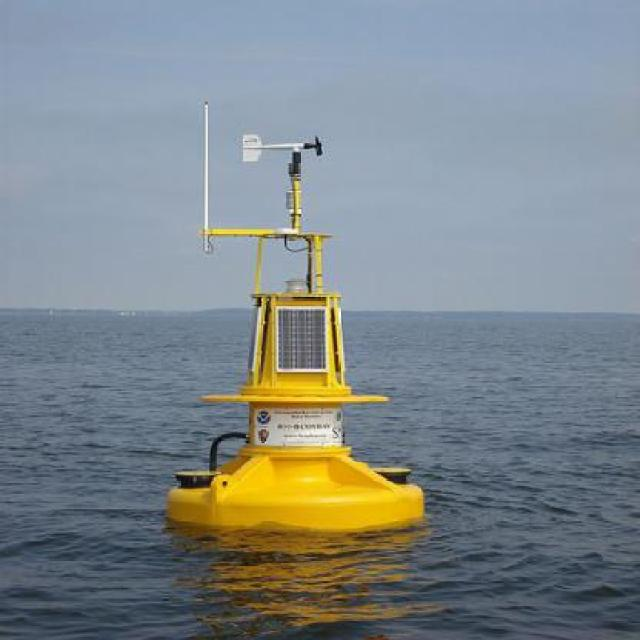buoy: (156, 87, 447, 544)
